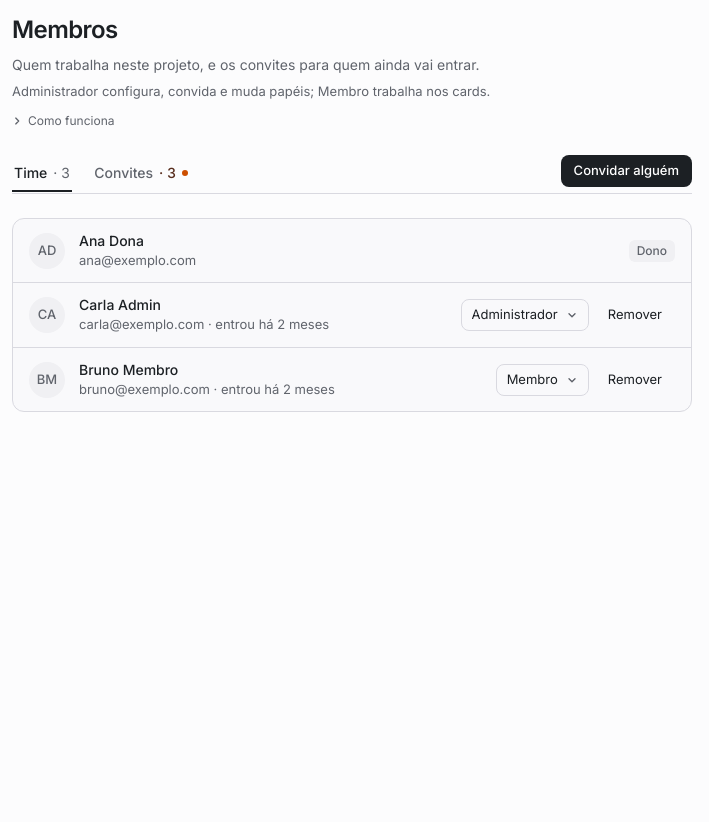
Scenario: MembersScreen › o administrador ve cada convite com o selo de onde o e-mail esta
What coordinates should you click on to do the following:
click the tab "Convites · 3"
I would click on:
 (141, 174)
Its box is [92,156,190,192].
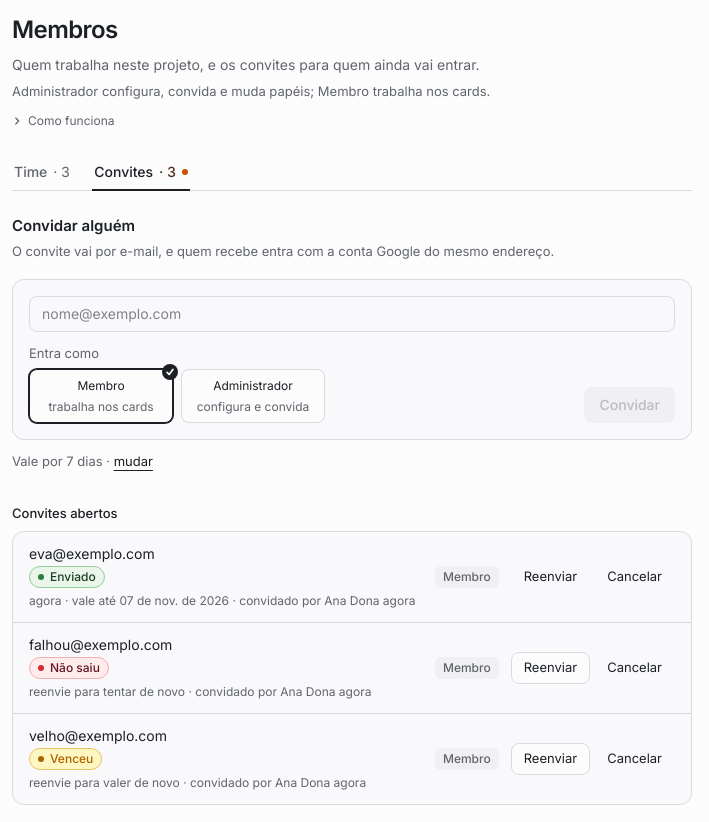
Expected: the text "Enviado" is shown, [29,566,105,588]
Expected: the text "vale até" is shown, [29,593,415,608]
Expected: the text "Não saiu" is shown, [29,657,109,679]
